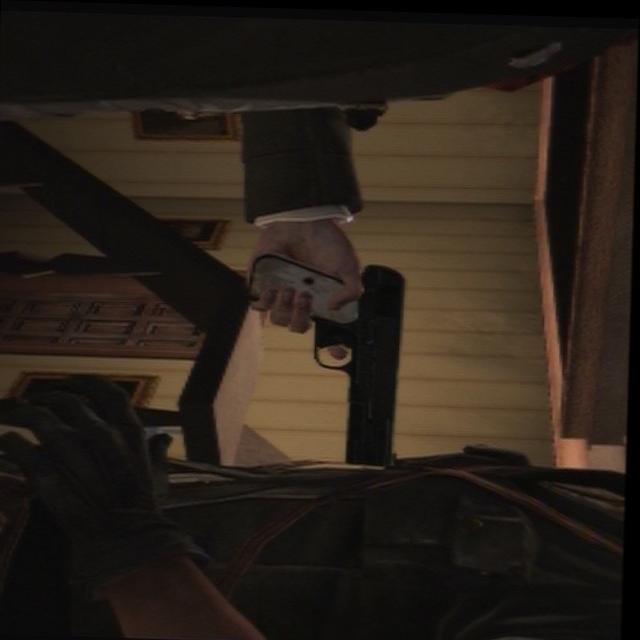handgun: (246, 244, 413, 466)
